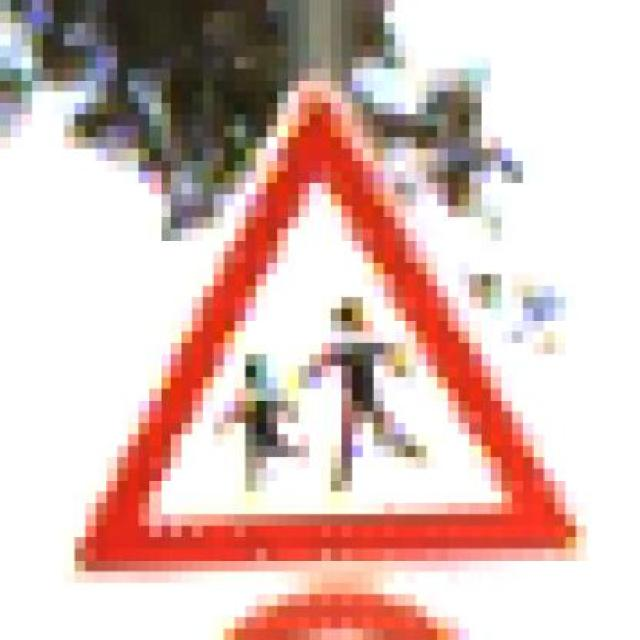Beware of children: (64, 68, 598, 583)
